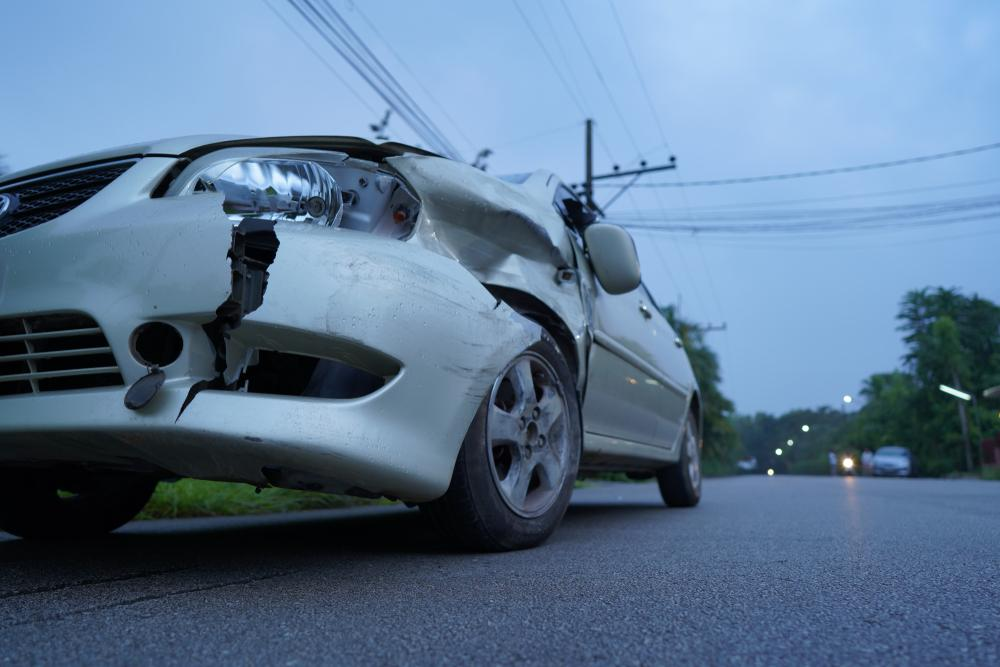crack: (174, 221, 281, 426), (494, 299, 503, 311)
dent: (422, 185, 587, 333)
lamp broken: (168, 143, 413, 242)
scratch: (318, 241, 532, 399)
